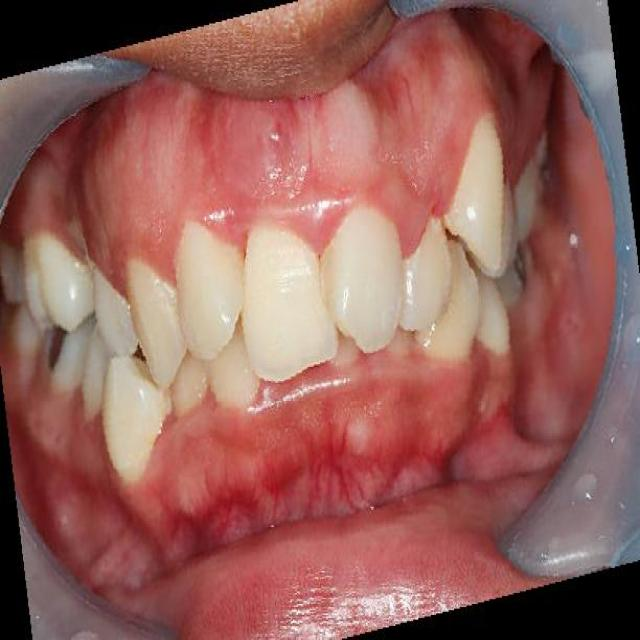caries: (41, 320, 72, 379), (508, 246, 535, 292)
